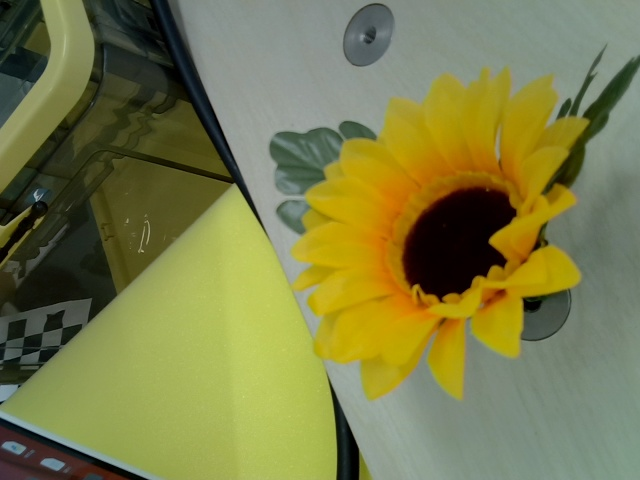해바라기: (297, 70, 591, 399)
